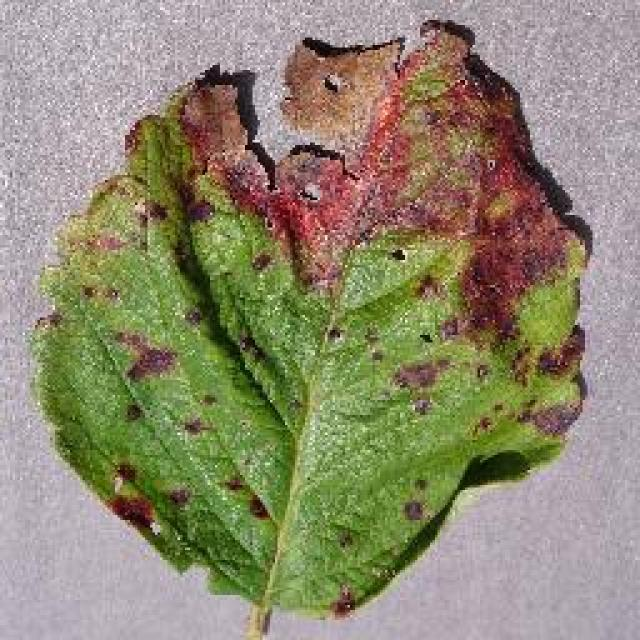Strawberry___Leaf_scorch: (10, 2, 605, 640)
